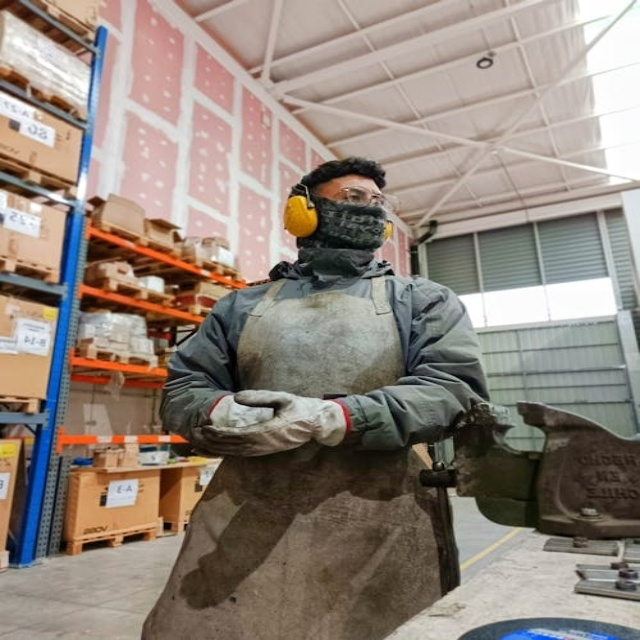Gafas: (311, 186, 389, 212)
Guantes: (204, 388, 347, 454)
Mascara: (301, 197, 387, 251)
